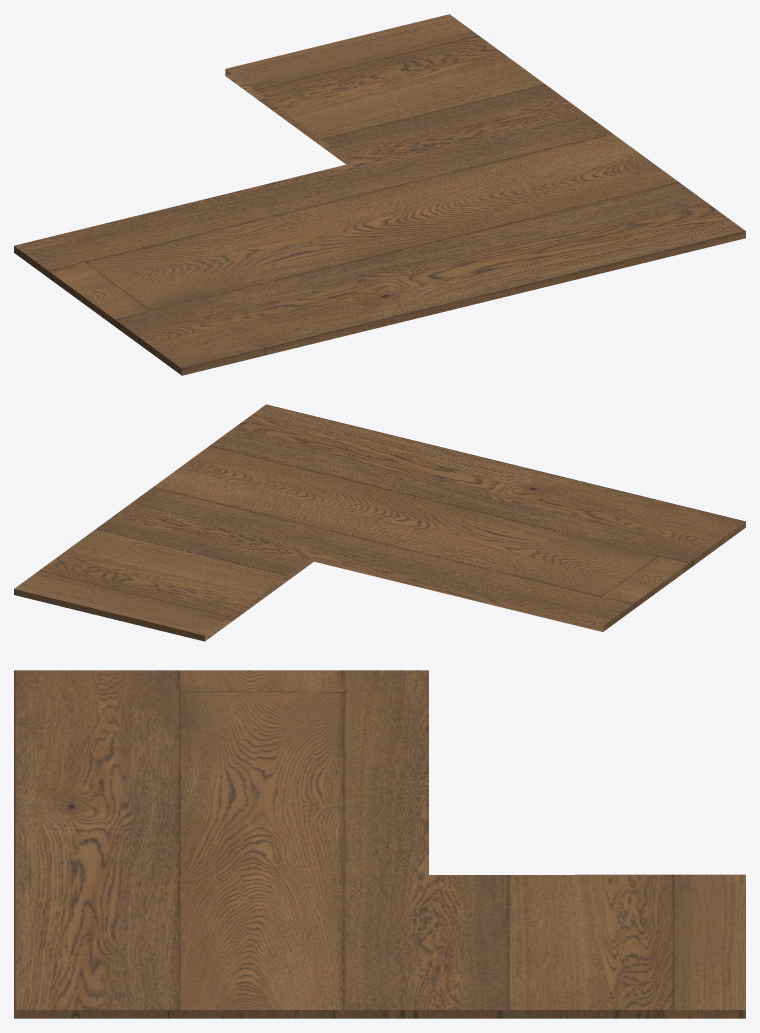
File: Floor_RDC.fbx
The picture shows the model from 3 angles, top to bottom: view 1: azimuth 30°, elevation 25°; view 2: azimuth 150°, elevation 25°; view 3: azimuth 270°, elevation 25°; orthographic projection. The views are drawn at different scales.
Parts seen in each view (by area): view 1: RDC_BurreauBibliotheque_Sol; view 2: RDC_BurreauBibliotheque_Sol; view 3: RDC_BurreauBibliotheque_Sol.
Boxes of the visible parts, left/top/right/bottom form: RDC_BurreauBibliotheque_Sol: left=14, top=14, right=745, bottom=375; RDC_BurreauBibliotheque_Sol: left=14, top=404, right=745, bottom=641; RDC_BurreauBibliotheque_Sol: left=14, top=670, right=745, bottom=1018.
Size of the model in its own units: 2344 by 28.21 by 2134.
